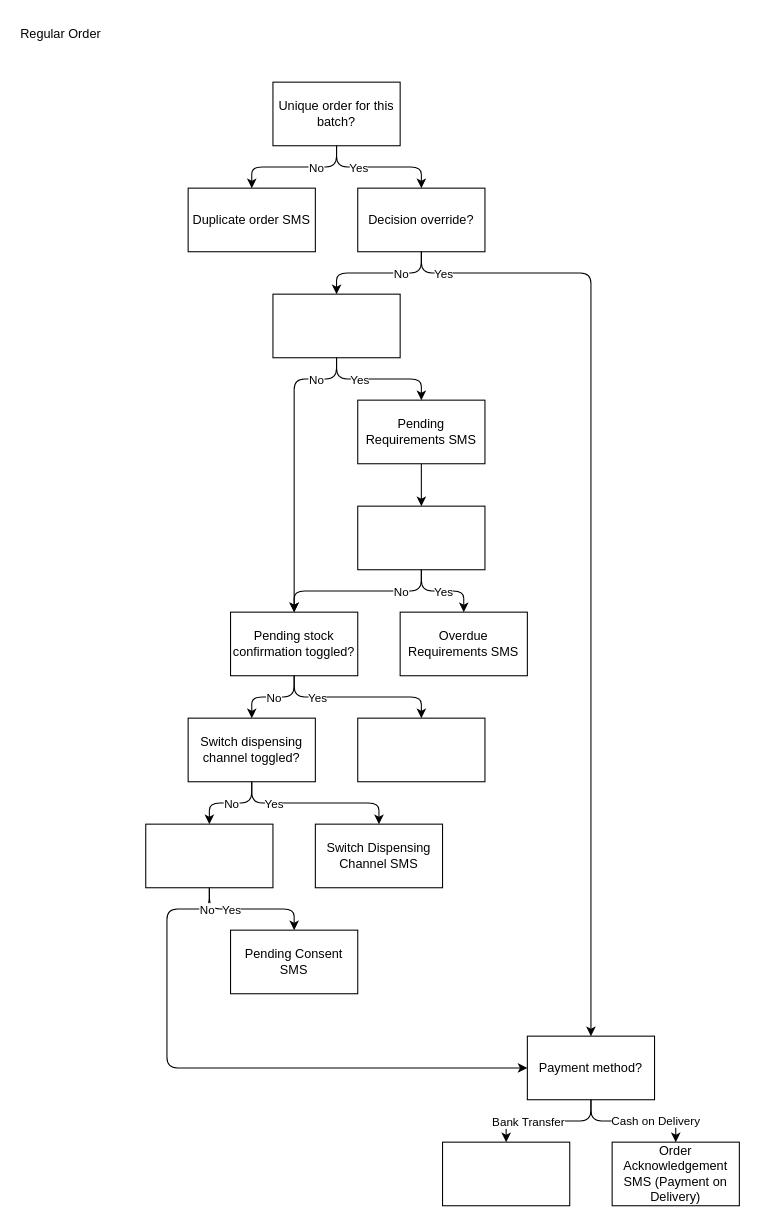
Some shapes in this 758 by 1224 pixel diagram are drawn without their labels. The centre of each missing label's shape, as x and y in pixels:
"Has pending requirements?" goes at [336,325].
"Order Acknowledgement SMS (Advanced Payment)" goes at [505,1173].
"Pending consent toggled?" goes at [209,855].
"Pending status is more than 72 hours?" goes at [421,537].
"Pending Stock Confirmation SMS" goes at [421,749].
